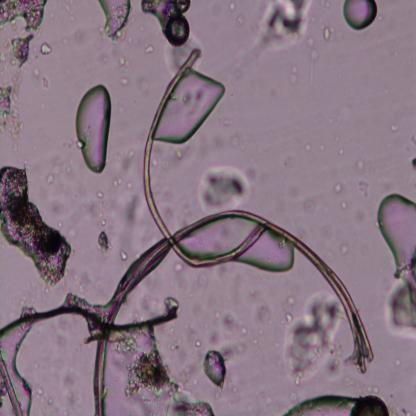Air bubble: (156, 71, 230, 144), (74, 82, 116, 174), (376, 193, 415, 279), (0, 326, 34, 416), (245, 233, 295, 275), (283, 392, 354, 416), (98, 0, 132, 44), (341, 0, 378, 33), (203, 348, 229, 388)
Background material: (0, 286, 180, 341), (0, 158, 72, 284), (281, 291, 343, 387), (111, 330, 175, 400), (252, 0, 314, 60), (197, 163, 254, 213), (382, 278, 416, 342), (0, 0, 49, 35), (0, 74, 25, 137), (166, 44, 203, 72), (9, 33, 37, 67), (166, 398, 215, 416), (176, 194, 193, 226), (178, 361, 199, 386), (123, 192, 139, 224), (97, 229, 115, 257), (157, 187, 173, 218), (255, 298, 273, 325), (168, 143, 191, 164), (217, 310, 240, 330), (116, 148, 136, 170), (223, 340, 246, 359), (305, 35, 320, 63), (38, 389, 56, 412), (388, 398, 411, 416), (181, 319, 198, 341), (318, 25, 335, 42), (357, 179, 370, 199), (300, 196, 316, 212), (227, 132, 241, 149), (66, 0, 77, 21), (366, 383, 382, 397), (136, 79, 150, 94), (199, 270, 212, 286), (74, 27, 86, 44), (290, 64, 299, 86), (86, 200, 97, 218), (207, 332, 220, 347), (331, 179, 343, 195), (40, 43, 54, 56), (12, 133, 20, 154), (355, 156, 366, 170), (162, 156, 172, 170), (97, 213, 106, 228), (119, 58, 130, 70), (112, 177, 124, 188), (119, 76, 132, 86), (340, 240, 348, 256), (341, 377, 357, 385), (69, 226, 79, 238), (390, 121, 400, 133), (119, 249, 129, 261), (66, 158, 73, 175), (32, 65, 41, 78), (42, 76, 50, 90), (408, 134, 416, 148), (144, 44, 154, 55), (285, 294, 296, 304), (238, 326, 248, 337), (46, 174, 55, 186), (232, 376, 238, 394), (95, 190, 105, 200), (382, 84, 390, 96), (228, 0, 236, 12), (291, 389, 298, 402), (339, 200, 348, 210), (125, 180, 134, 190), (173, 263, 182, 273), (236, 16, 244, 26), (411, 156, 416, 172), (304, 141, 311, 152), (394, 357, 401, 368), (0, 53, 6, 65), (376, 13, 384, 21), (318, 144, 326, 152), (266, 398, 274, 406), (324, 0, 332, 8), (337, 112, 343, 122), (337, 148, 344, 156), (102, 55, 110, 62), (195, 339, 202, 347), (63, 39, 70, 45), (258, 330, 264, 336), (128, 35, 132, 44), (254, 337, 258, 344), (337, 136, 342, 141)
Diatom: (163, 11, 192, 49), (350, 394, 390, 416), (174, 0, 192, 12)
Microfibre: (93, 210, 373, 416), (141, 45, 266, 269)
